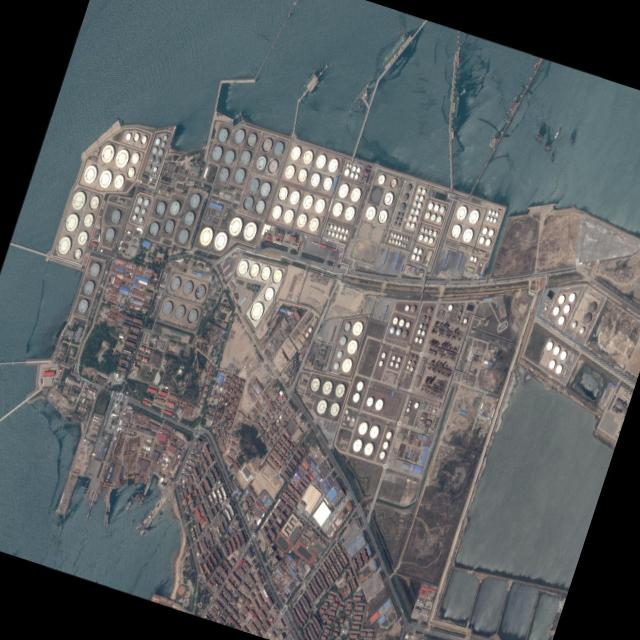ship: (380, 30, 408, 66), (384, 34, 411, 69), (353, 79, 370, 102), (505, 95, 517, 116), (303, 69, 316, 86), (105, 463, 113, 482), (453, 93, 459, 117), (553, 129, 559, 139), (131, 493, 137, 502), (125, 500, 130, 508), (105, 513, 108, 525), (570, 133, 573, 144), (538, 134, 542, 142), (459, 89, 464, 95), (569, 134, 572, 144), (134, 524, 139, 530), (135, 493, 139, 500), (537, 134, 541, 141), (107, 502, 110, 511), (537, 133, 540, 141), (535, 132, 538, 140), (536, 133, 539, 140), (539, 136, 542, 142), (115, 491, 119, 495), (549, 143, 551, 151), (548, 143, 550, 151), (547, 143, 549, 151), (546, 143, 548, 151), (136, 495, 139, 500), (238, 110, 241, 114), (552, 154, 553, 161), (545, 144, 546, 151), (551, 155, 552, 161), (544, 145, 545, 151), (235, 113, 237, 115)
storage-tank: (81, 162, 99, 185), (98, 142, 116, 165), (247, 299, 265, 322), (196, 224, 214, 247), (240, 219, 258, 242), (226, 214, 244, 237), (69, 189, 87, 211), (54, 234, 72, 256), (112, 147, 130, 169), (211, 229, 229, 251), (62, 211, 79, 233), (96, 168, 113, 189), (294, 166, 308, 184), (312, 196, 326, 214), (336, 181, 350, 199), (252, 197, 266, 215), (271, 139, 285, 157), (222, 147, 236, 165), (339, 356, 353, 373), (344, 338, 358, 355), (327, 400, 341, 417), (314, 397, 328, 414), (332, 381, 346, 398), (307, 376, 321, 393), (363, 204, 377, 221), (350, 319, 364, 336), (460, 226, 474, 243), (454, 203, 468, 220), (348, 185, 362, 202), (167, 199, 181, 216), (152, 199, 166, 216), (161, 217, 175, 234), (146, 220, 160, 237), (176, 227, 190, 244), (261, 285, 275, 302), (306, 215, 320, 232), (294, 211, 308, 228), (288, 144, 302, 161), (281, 207, 295, 224), (275, 184, 289, 201), (300, 193, 314, 210), (307, 171, 321, 188), (319, 175, 333, 192), (330, 200, 344, 217), (325, 156, 339, 173), (313, 152, 327, 169), (300, 148, 314, 165), (192, 282, 206, 299), (184, 307, 198, 324), (172, 303, 186, 320), (246, 261, 260, 278), (216, 165, 230, 182), (232, 166, 246, 183), (235, 258, 249, 275), (259, 136, 273, 153), (232, 127, 246, 144), (215, 126, 229, 143), (466, 208, 480, 224), (269, 268, 283, 284), (287, 189, 301, 205), (180, 279, 194, 295), (265, 158, 279, 174), (381, 190, 394, 207), (375, 207, 388, 224), (448, 222, 461, 239), (111, 172, 124, 189), (108, 207, 121, 224), (102, 226, 115, 243), (81, 211, 94, 228), (182, 209, 195, 226), (258, 264, 271, 281), (269, 203, 282, 220), (342, 204, 355, 221), (282, 162, 295, 179), (168, 274, 181, 291), (160, 299, 173, 316), (258, 180, 271, 197), (254, 153, 267, 170), (244, 131, 257, 148), (350, 436, 363, 452), (320, 379, 333, 395), (87, 194, 100, 210), (75, 229, 88, 245), (88, 261, 101, 277), (82, 279, 95, 295), (76, 298, 89, 314), (188, 192, 201, 208), (241, 194, 254, 210), (247, 177, 260, 193), (238, 149, 251, 165), (210, 144, 223, 160), (368, 424, 380, 439), (356, 420, 368, 435), (362, 441, 374, 456), (373, 397, 384, 410), (71, 247, 82, 260), (124, 165, 135, 178), (129, 151, 140, 164), (341, 320, 351, 332), (581, 311, 591, 323), (586, 301, 596, 313), (376, 173, 385, 185), (355, 380, 364, 391), (351, 391, 360, 402), (337, 335, 346, 346), (388, 177, 397, 188), (567, 291, 576, 302), (556, 314, 565, 325), (558, 349, 567, 360), (554, 363, 563, 374), (547, 358, 556, 369), (551, 305, 560, 316), (556, 293, 565, 304), (138, 134, 147, 145), (551, 345, 560, 355), (544, 340, 553, 350), (562, 303, 570, 313), (131, 132, 139, 142), (408, 304, 416, 313), (477, 235, 485, 244), (384, 430, 392, 439), (381, 440, 389, 449), (400, 329, 407, 338), (394, 327, 401, 336), (365, 395, 374, 402), (378, 450, 385, 459), (343, 167, 350, 176), (391, 316, 398, 324), (398, 202, 405, 210), (401, 192, 408, 200), (404, 183, 411, 191), (397, 318, 404, 326), (388, 325, 395, 333), (332, 361, 339, 369), (484, 237, 491, 245), (487, 228, 494, 236), (570, 320, 577, 328), (435, 214, 442, 222), (432, 203, 439, 211), (438, 205, 445, 213), (136, 195, 143, 203), (133, 204, 140, 212), (124, 132, 131, 140), (336, 349, 342, 358), (429, 213, 436, 220), (481, 226, 487, 234), (424, 211, 430, 219), (427, 201, 433, 209), (154, 156, 160, 164), (154, 137, 160, 145), (157, 147, 163, 155), (151, 145, 157, 153), (404, 320, 410, 327), (377, 359, 383, 366), (578, 326, 584, 333), (417, 233, 423, 240), (422, 235, 428, 242), (143, 198, 149, 205), (148, 155, 154, 162), (404, 304, 409, 311), (380, 351, 385, 358), (412, 246, 417, 253), (426, 306, 431, 313), (428, 236, 433, 243), (416, 201, 421, 208), (413, 401, 418, 408), (140, 207, 145, 214), (304, 330, 309, 337), (349, 171, 354, 177), (417, 248, 422, 254), (415, 254, 420, 260), (410, 253, 415, 259), (355, 166, 360, 172), (351, 165, 356, 171), (409, 222, 414, 228), (447, 304, 452, 310), (462, 317, 467, 323), (413, 336, 418, 342), (420, 314, 425, 320), (418, 322, 423, 328), (420, 329, 425, 335), (416, 328, 421, 334), (412, 215, 417, 221), (427, 228, 432, 234), (420, 188, 425, 194), (418, 195, 423, 201), (414, 208, 419, 214), (353, 173, 358, 179), (138, 216, 143, 222), (307, 326, 312, 332), (336, 225, 341, 231), (152, 165, 157, 171), (146, 163, 151, 169), (162, 134, 167, 140), (160, 140, 165, 146), (412, 355, 417, 360), (423, 227, 428, 232), (278, 230, 283, 235), (340, 227, 345, 232), (391, 354, 395, 360), (389, 360, 393, 366), (425, 315, 429, 321), (422, 323, 426, 329), (492, 217, 496, 223), (418, 337, 422, 343), (432, 230, 436, 236), (408, 353, 412, 359), (412, 200, 416, 206), (275, 228, 279, 234), (342, 234, 346, 240), (338, 233, 342, 239), (394, 239, 398, 244), (351, 416, 355, 421), (318, 348, 322, 353), (346, 415, 350, 420), (344, 408, 348, 413), (406, 221, 410, 226), (408, 214, 412, 219), (472, 256, 476, 261), (469, 255, 473, 260), (457, 310, 461, 315), (485, 215, 489, 220), (488, 216, 492, 221), (494, 211, 498, 216), (491, 210, 495, 215), (487, 209, 491, 214), (420, 227, 424, 232), (417, 187, 421, 192), (414, 194, 418, 199), (410, 207, 414, 212), (409, 366, 413, 371), (396, 356, 400, 361), (394, 362, 398, 367), (405, 406, 409, 411), (96, 228, 100, 233), (94, 234, 98, 239), (132, 214, 136, 219), (344, 228, 348, 233), (334, 232, 338, 237), (333, 224, 337, 229), (331, 231, 335, 236), (329, 223, 333, 228), (395, 211, 399, 215), (397, 241, 401, 245), (397, 217, 401, 221), (392, 221, 396, 225), (321, 349, 325, 353), (405, 364, 409, 368), (165, 191, 169, 195), (253, 289, 257, 293), (327, 230, 331, 234), (391, 238, 394, 243), (456, 316, 459, 321), (411, 360, 414, 365), (407, 359, 410, 364), (255, 284, 258, 289), (252, 283, 255, 288), (394, 216, 397, 220), (399, 235, 402, 239), (405, 237, 408, 241), (400, 242, 403, 246), (396, 234, 399, 238), (393, 233, 396, 237), (390, 232, 393, 236), (388, 238, 391, 242), (396, 222, 399, 226), (348, 163, 351, 167), (346, 162, 349, 166), (543, 306, 546, 310), (432, 408, 435, 412), (326, 223, 329, 227), (324, 229, 327, 233), (403, 243, 406, 246), (70, 349, 73, 352), (83, 407, 86, 410), (80, 406, 83, 409), (94, 415, 97, 418), (179, 364, 182, 367), (151, 172, 154, 175), (400, 212, 402, 216), (78, 405, 80, 409), (403, 236, 405, 239), (452, 315, 454, 318), (158, 189, 160, 192), (96, 416, 98, 419), (94, 418, 96, 421), (181, 365, 183, 368), (154, 173, 156, 176), (453, 312, 455, 314), (95, 419, 97, 421), (93, 415, 95, 417), (92, 418, 94, 420), (480, 263, 482, 265), (409, 399, 410, 402), (408, 403, 409, 405)
